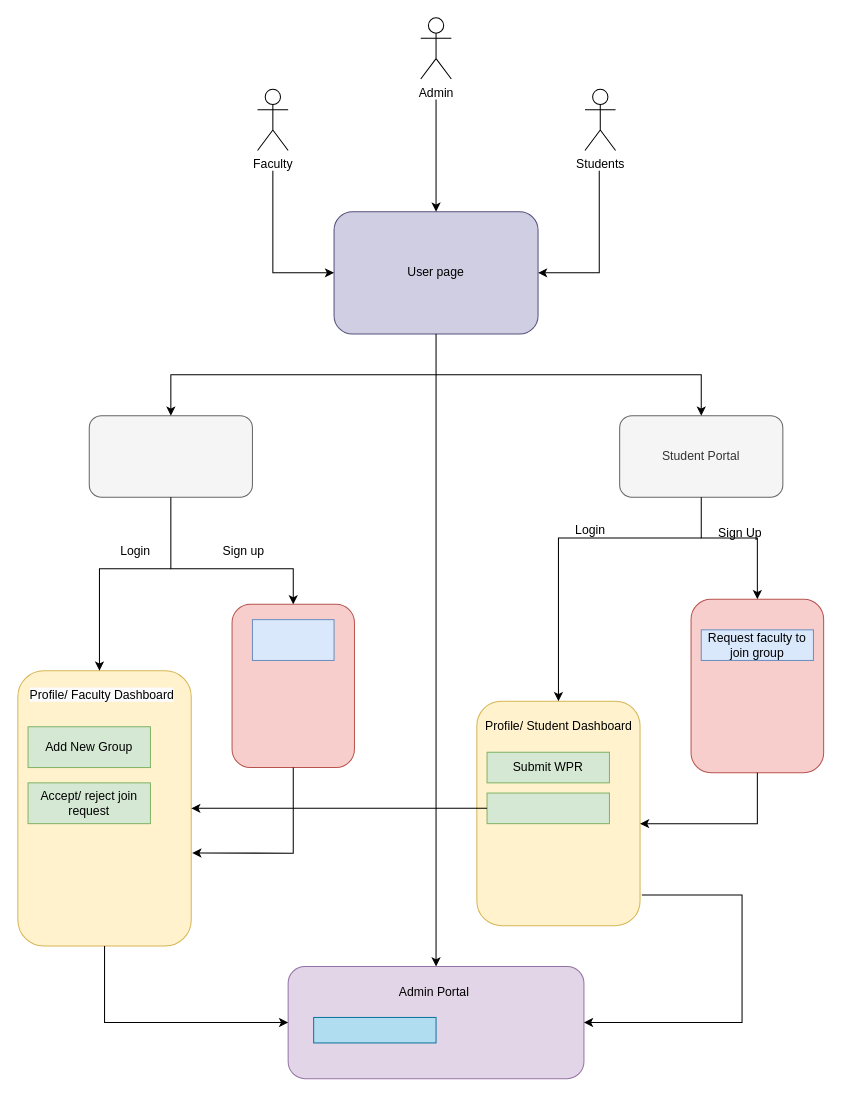
Some shapes in this 842 by 1097 pixel diagram are drawn without their labels. The box of each missing label's shape, as (x1, y1, x2, y2) in pixels:
Create a group: (251, 619, 334, 660)
Faculty Portal: (88, 415, 252, 497)
Generate Report: (313, 1016, 436, 1043)
Upload Synopsis: (486, 792, 609, 824)
